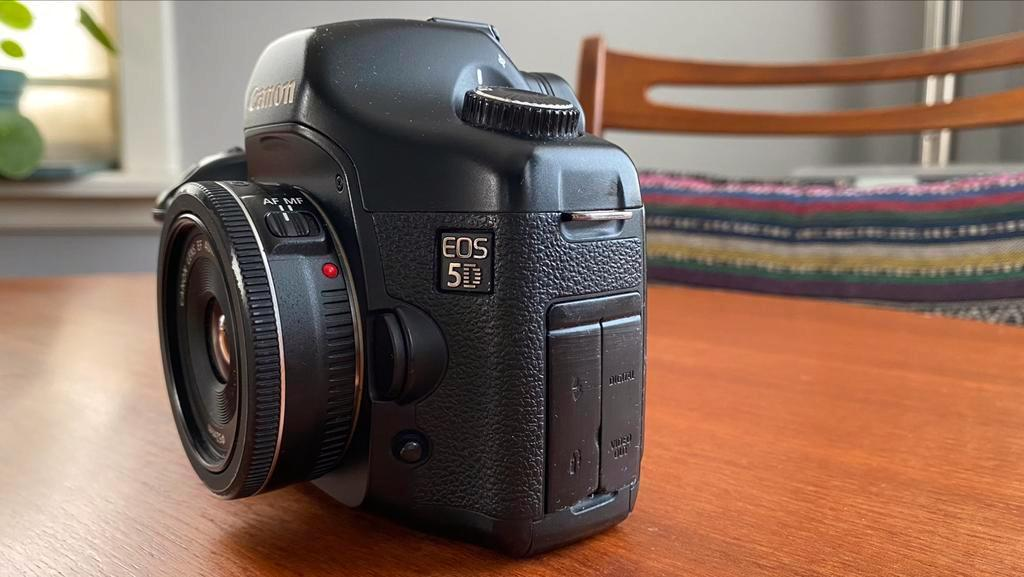camera: (162, 21, 643, 534)
lense: (159, 178, 363, 500)
